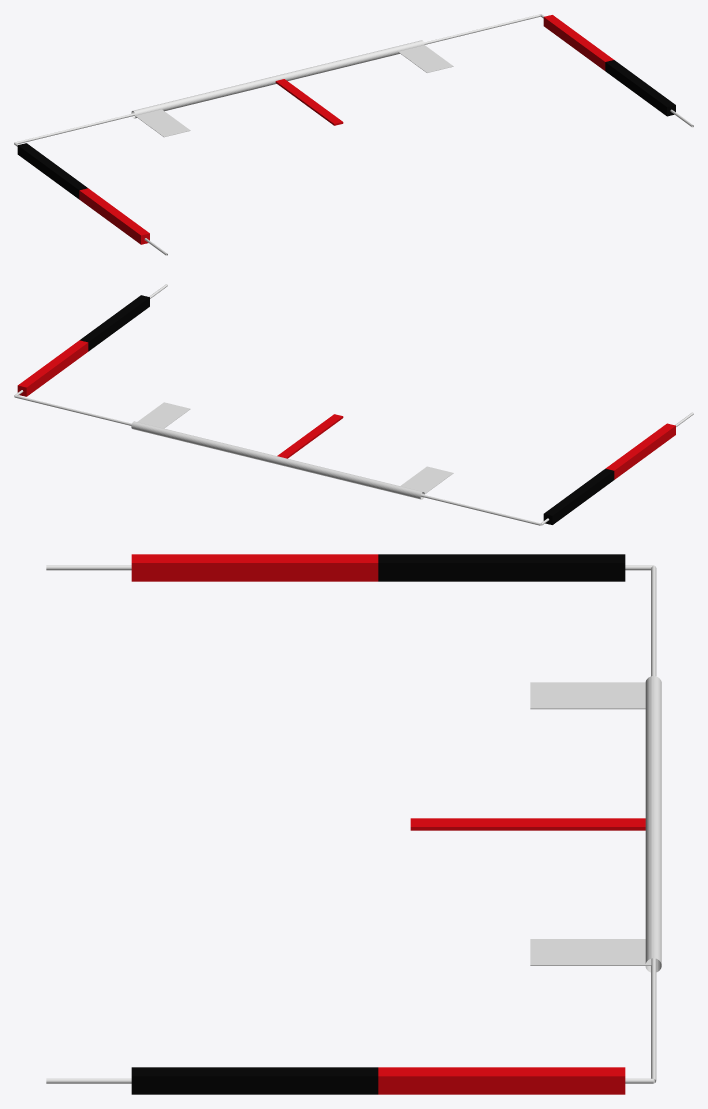
The model's file is gate.dae.
3 views of the same model, one above another, from view 1: azimuth 30°, elevation 25°; view 2: azimuth 150°, elevation 25°; view 3: azimuth 270°, elevation 25° (orthographic). The views are drawn at different scales.
Visible parts, largest first — view 1: Circle.003, Plane.002, Plane.001, Plane, Plane.004, Plane.006, Plane.007, Circle.002, Plane.005; view 2: Circle.003, Plane.004, Plane, Plane.002, Plane.001, Circle.002, Plane.006, Plane.007, Plane.005; view 3: Plane.002, Plane.004, Plane.001, Plane, Circle.003, Plane.006, Plane.007, Plane.005, Circle.002.
Boxes of the visible parts, x1,y1,x2,y2 form: Circle.003: [131, 40, 424, 118]; Plane.002: [605, 60, 675, 116]; Plane.001: [79, 188, 149, 244]; Plane: [17, 143, 87, 199]; Plane.004: [543, 15, 613, 70]; Plane.006: [134, 109, 190, 137]; Plane.007: [398, 45, 453, 72]; Circle.002: [15, 14, 540, 143]; Plane.005: [275, 79, 343, 125]; Circle.003: [131, 421, 424, 499]; Plane.004: [17, 340, 88, 396]; Plane: [543, 468, 614, 524]; Plane.002: [80, 295, 149, 351]; Plane.001: [606, 423, 675, 479]; Circle.002: [14, 395, 541, 525]; Plane.006: [400, 466, 453, 494]; Plane.007: [137, 402, 190, 428]; Plane.005: [277, 414, 343, 458]; Plane.002: [131, 1067, 378, 1094]; Plane.004: [378, 1067, 625, 1094]; Plane.001: [131, 554, 378, 581]; Plane: [378, 554, 625, 581]; Circle.003: [645, 676, 661, 972]; Plane.006: [530, 682, 645, 709]; Plane.007: [530, 939, 651, 965]; Plane.005: [410, 818, 645, 830]; Circle.002: [651, 565, 656, 1083].
Bounding box in the file's own units: 3.05 × 1.52 × 0.0508.
